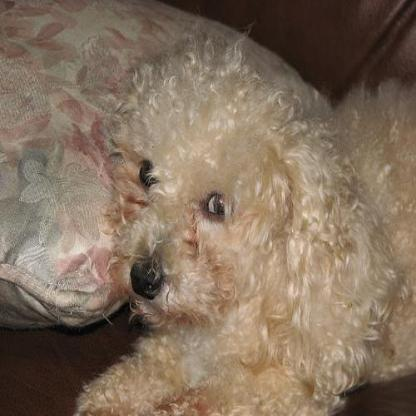toy_poodle: (72, 36, 414, 414)
